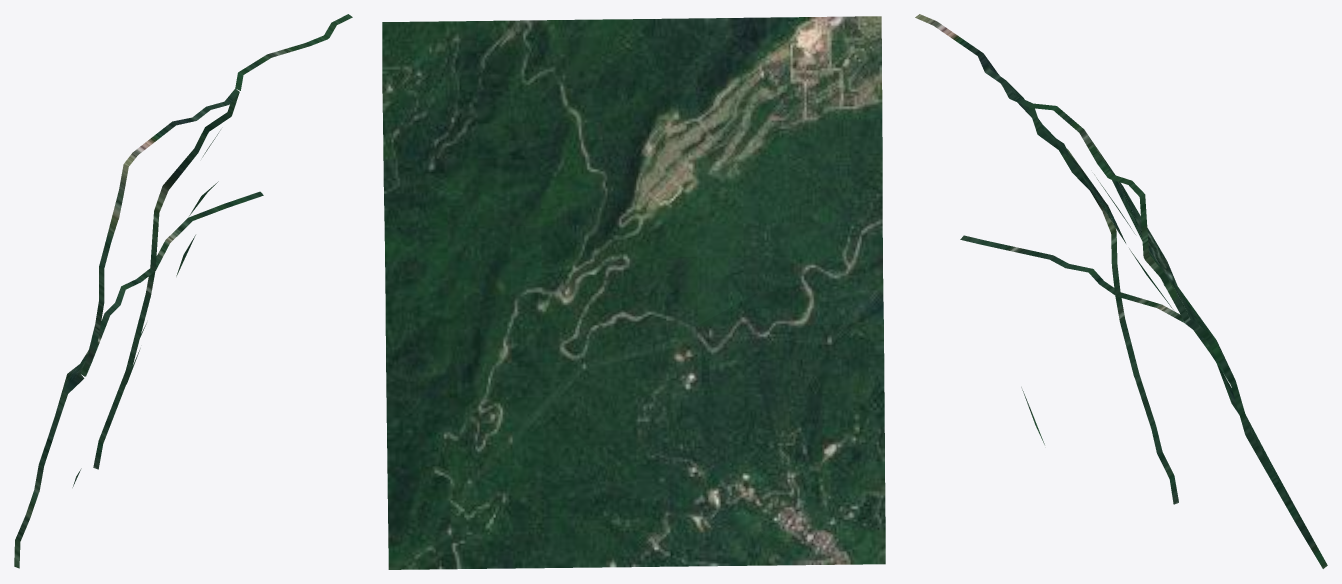
The picture shows the model from 3 angles, left to right: view 1: azimuth 30°, elevation 25°; view 2: azimuth 150°, elevation 25°; view 3: azimuth 270°, elevation 25°; orthographic projection. The views are drawn at different scales.
Size of the model in its own units: 2288 by 2415 by 1978.
1 material, 1 textured.
